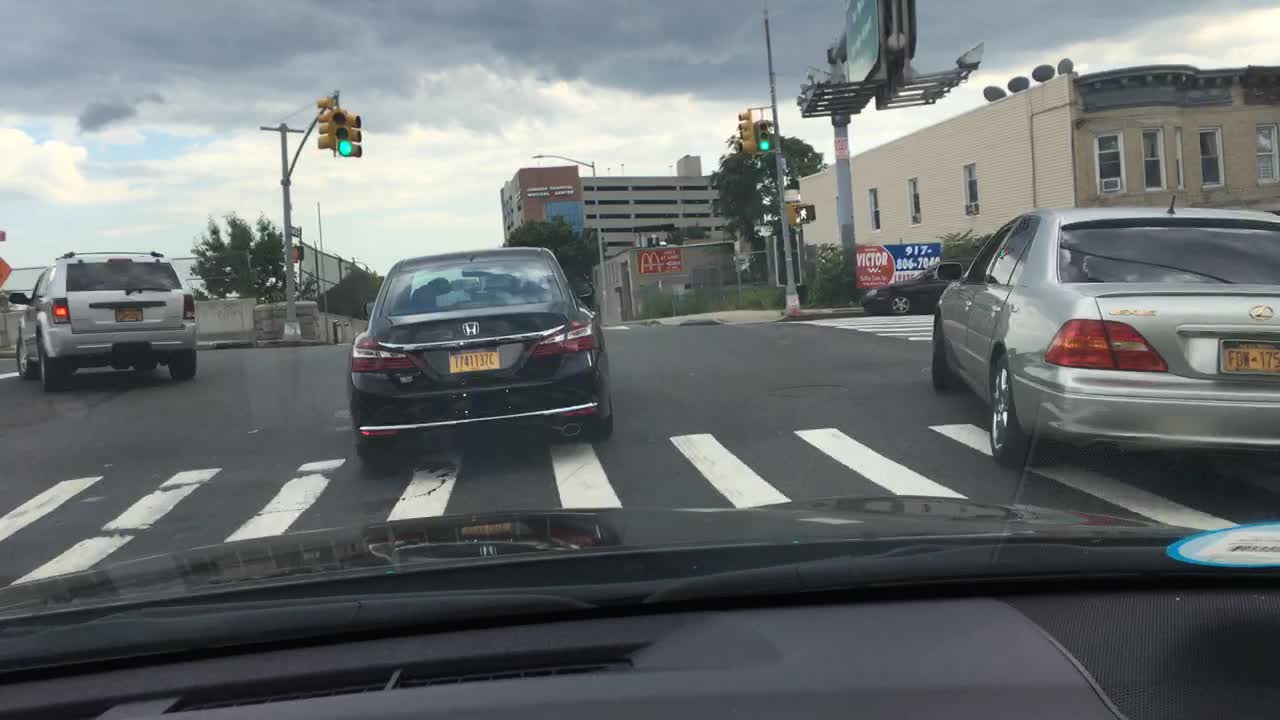car: (929, 193, 1277, 468), (345, 245, 615, 470), (14, 248, 198, 392), (856, 257, 976, 315)
traffic light: (316, 91, 335, 150), (331, 108, 353, 155), (343, 110, 362, 157), (736, 107, 755, 152), (783, 199, 815, 224), (753, 117, 773, 152), (283, 245, 304, 260)
traffic sign: (839, 0, 881, 91), (2, 251, 17, 299), (284, 224, 301, 237)
